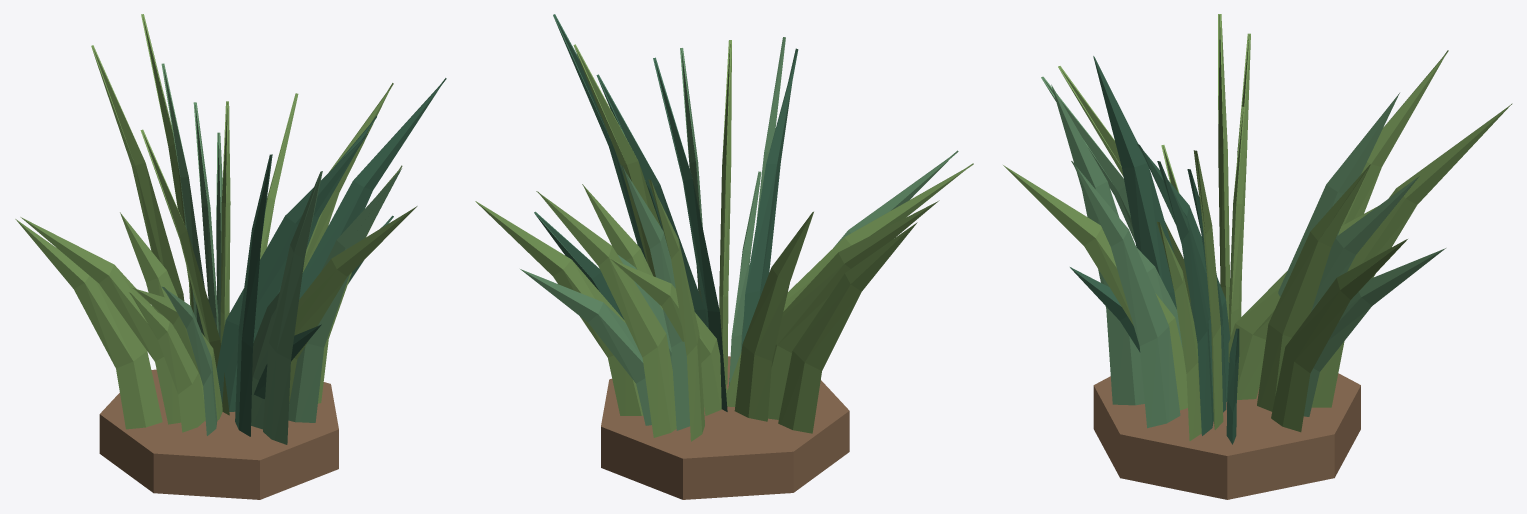
Rendered from PLANT_01.obj.
3 renders of one model, left to right at view 1: azimuth 30°, elevation 25°; view 2: azimuth 150°, elevation 25°; view 3: azimuth 270°, elevation 25°, orthographic. The views are drawn at different scales.
Parts seen in each view (by area): view 1: blades, soil; view 2: blades, soil; view 3: blades, soil.
Part boxes in pixels (box(x1,y1,x2,y2)): blades: box(15, 14, 446, 444); soil: box(99, 369, 338, 499); blades: box(475, 14, 973, 441); soil: box(601, 356, 849, 499); blades: box(1003, 14, 1512, 444); soil: box(1093, 373, 1360, 499).
Size of the model in its own units: 0.6312 by 0.5253 by 0.633.
